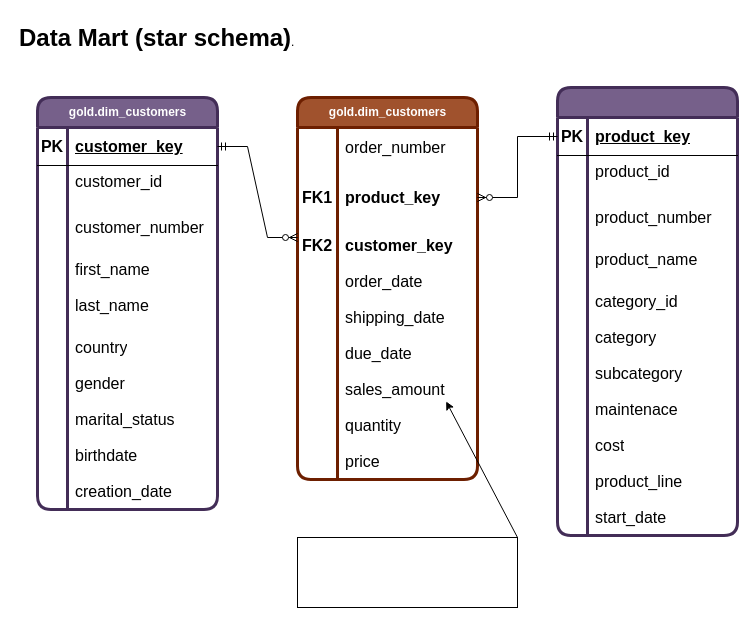
Image size: 756x627. Some labels were removed from this diagram. Each missing label, with the box of its shape:
gold.dim_products: (556, 86, 738, 536)
Sales calculations sales = Quantity x Price: (296, 536, 518, 608)
